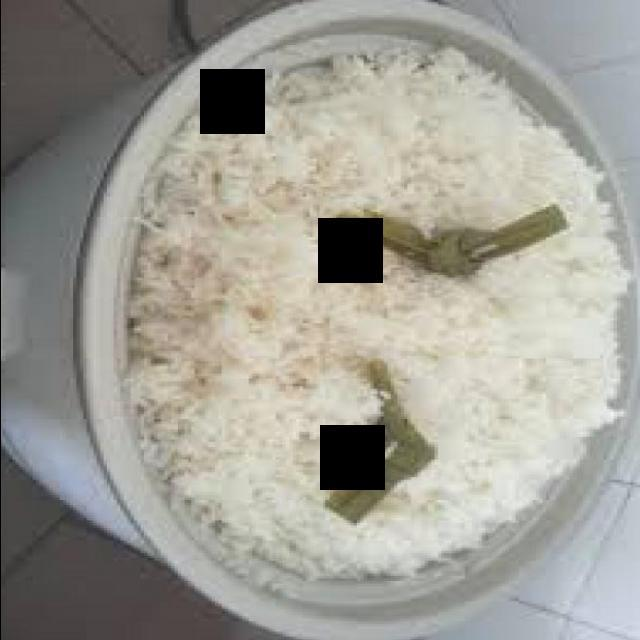rice: (122, 46, 630, 581)
